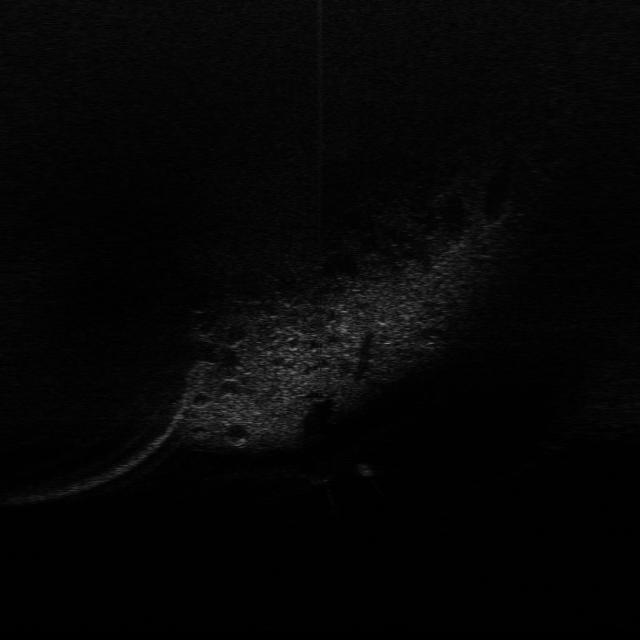cube: (293, 467, 337, 487)
cylinder: (353, 458, 378, 479)
